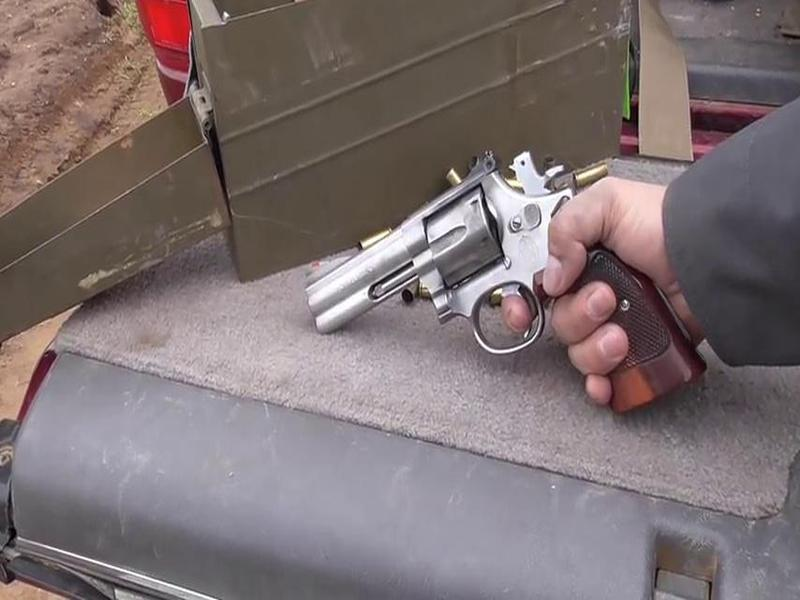Revolver: (299, 152, 624, 408)
